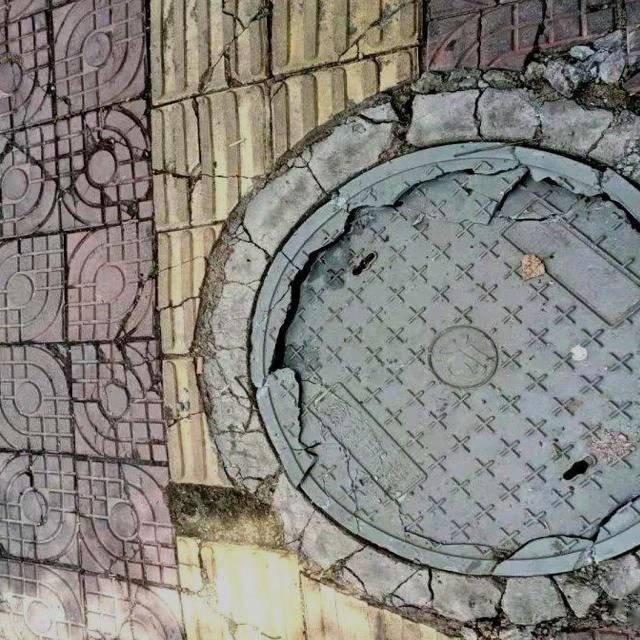circle: (180, 72, 640, 618)
